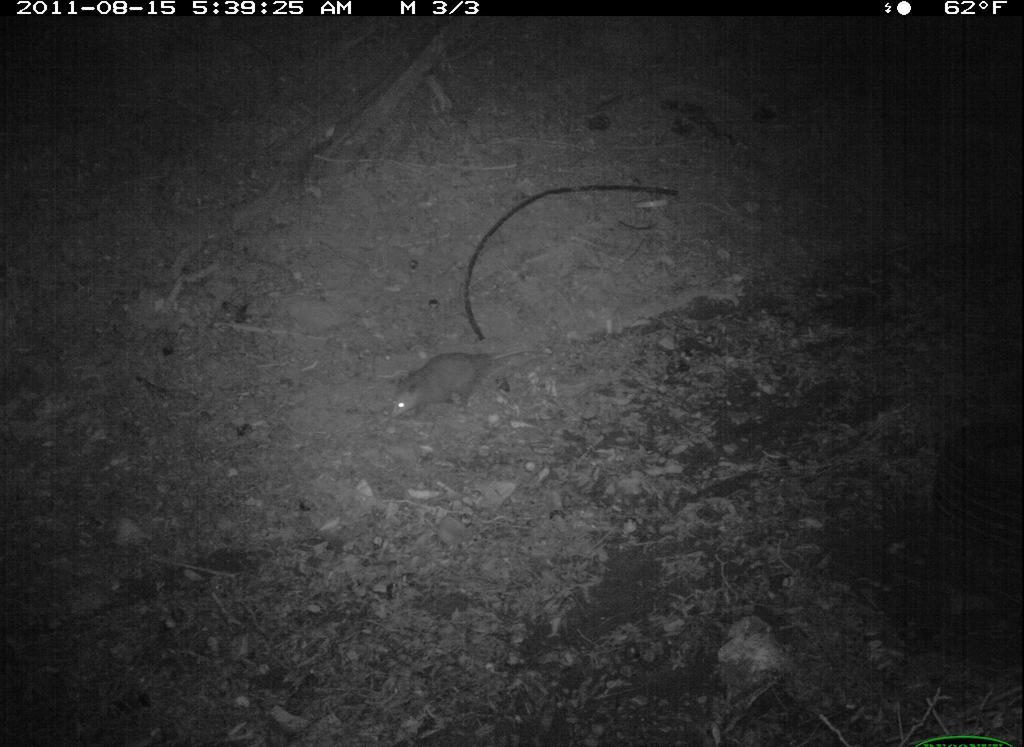opossum: (367, 340, 542, 431)
